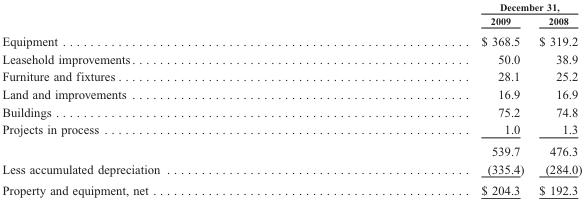table: (1, 0, 581, 196)
table column: (1, 0, 319, 196), (319, 0, 530, 196), (530, 0, 581, 196)
table column header: (1, 0, 581, 29)
table row: (1, 29, 581, 49), (1, 139, 581, 159), (1, 159, 581, 179), (1, 120, 581, 139), (1, 49, 581, 67), (1, 84, 581, 102), (1, 102, 581, 120), (1, 67, 581, 84), (1, 179, 581, 196), (1, 13, 581, 29), (1, 0, 581, 13)
table spanning cell: (319, 0, 581, 13)
